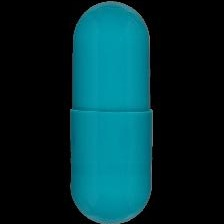65862-113: (0, 0, 224, 224)
